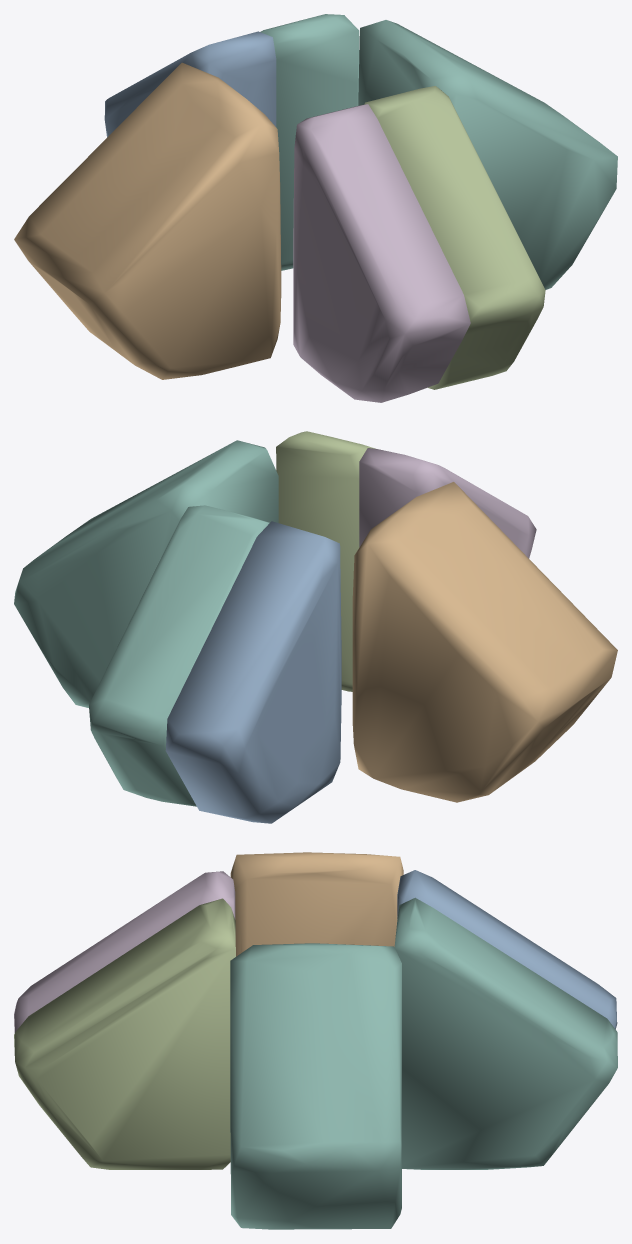
The picture shows the model from 3 angles, top to bottom: view 1: azimuth 30°, elevation 25°; view 2: azimuth 150°, elevation 25°; view 3: azimuth 270°, elevation 25°; orthographic projection. The views are drawn at different scales.
Bounding box in the file's own units: 1.94 × 0.8422 × 1.95.
